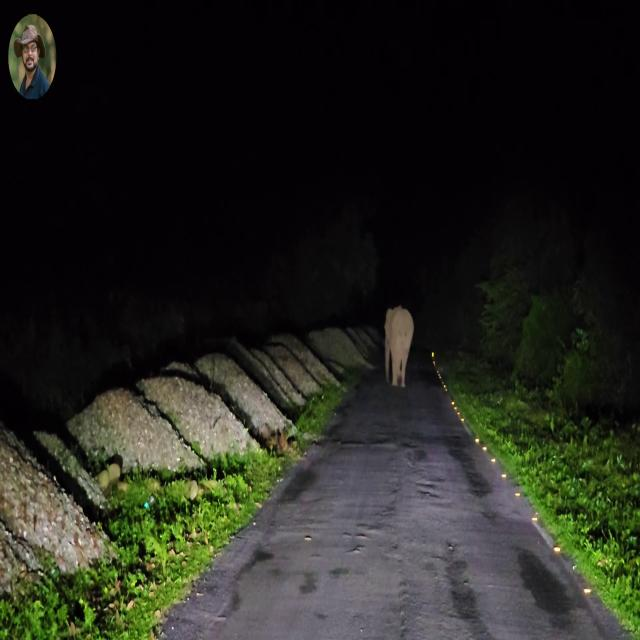Elephant: (384, 305, 414, 388)
